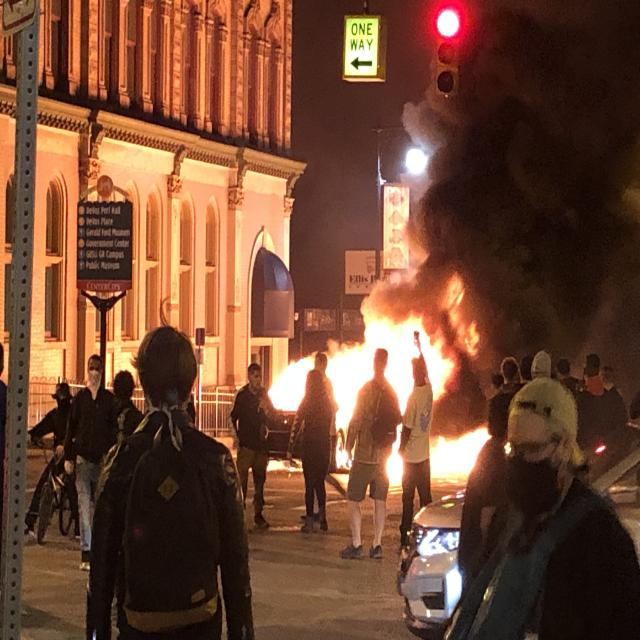fire: (364, 313, 416, 416), (325, 345, 375, 428), (430, 426, 490, 486), (417, 316, 455, 401), (443, 273, 481, 356), (268, 356, 315, 411)
